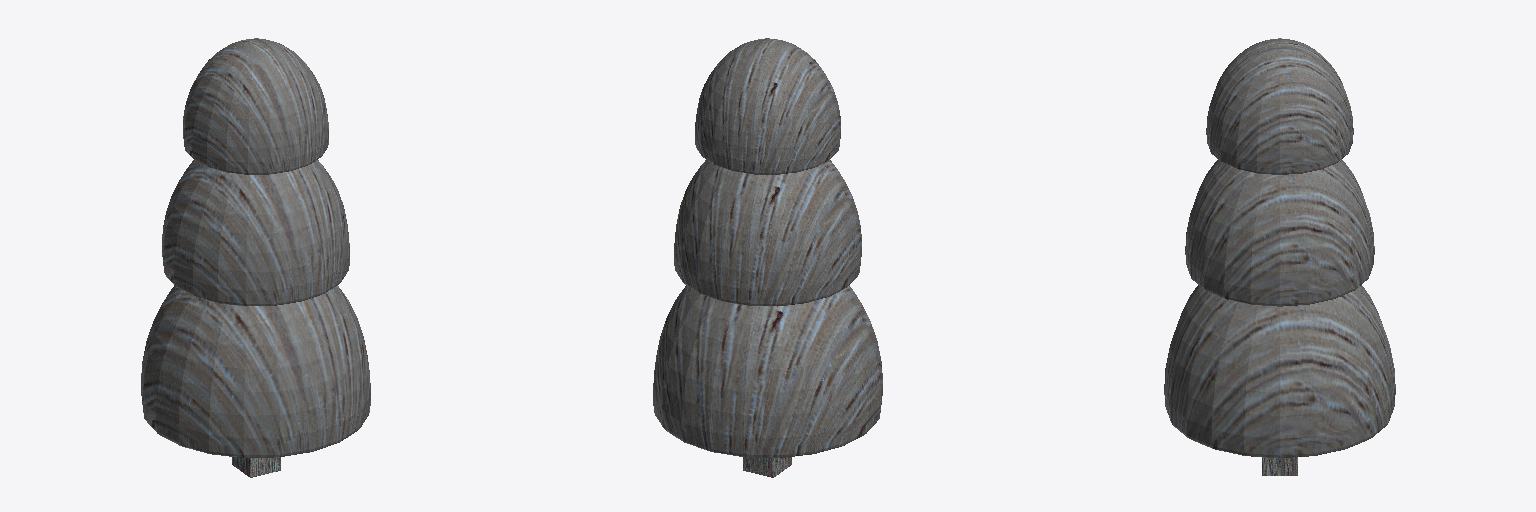
3 views of the same model, side by side, from view 1: azimuth 30°, elevation 25°; view 2: azimuth 150°, elevation 25°; view 3: azimuth 270°, elevation 25° (orthographic).
Parts seen in each view (by area): view 1: Tree4; view 2: Tree4; view 3: Tree4.
Boxes of the visible parts, x1=… form: Tree4: x1=141, y1=38, x2=370, y2=477; Tree4: x1=653, y1=38, x2=882, y2=477; Tree4: x1=1164, y1=38, x2=1395, y2=475.
Size of the model in its own units: 157 by 318 by 157.
Materials: 4 (2 with a texture image).